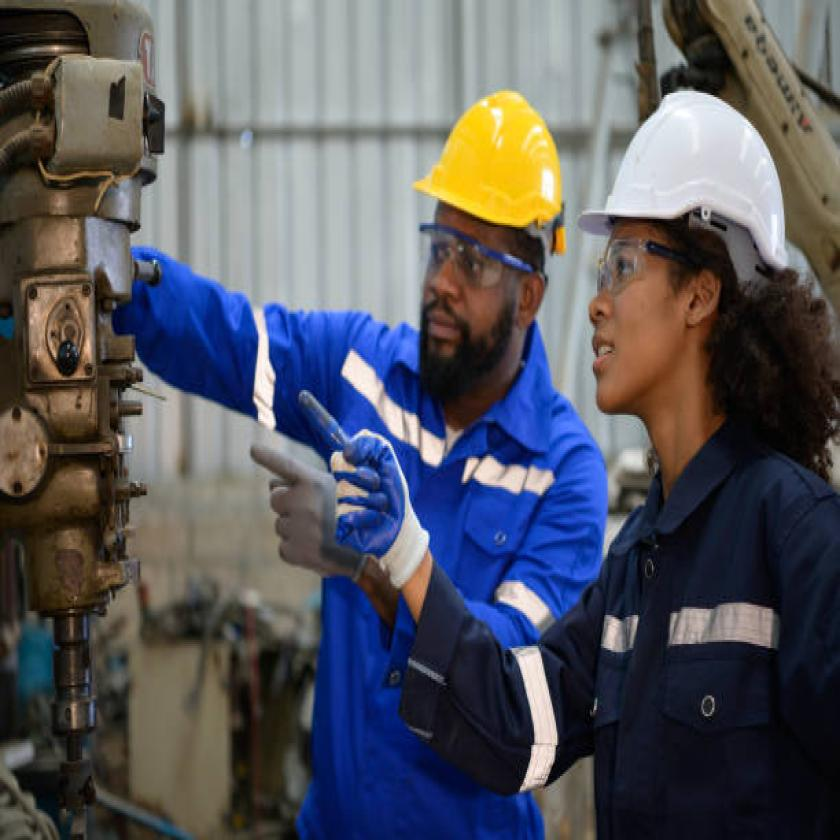Con_casco: (583, 74, 840, 471), (363, 40, 571, 414)
